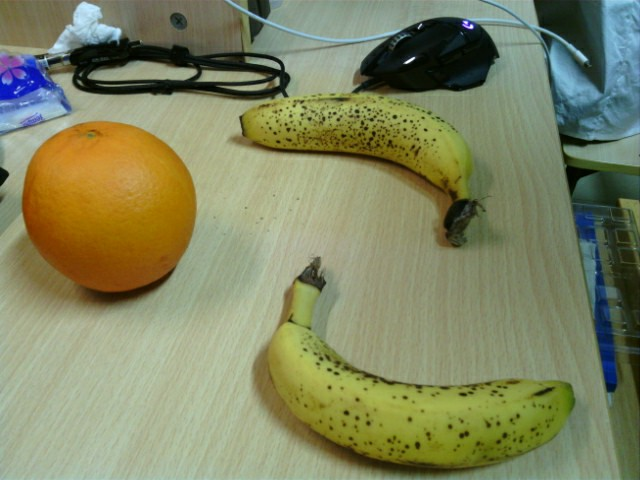normal_banana: (268, 258, 576, 470), (240, 93, 484, 251)
normal_orange: (21, 121, 196, 291)
